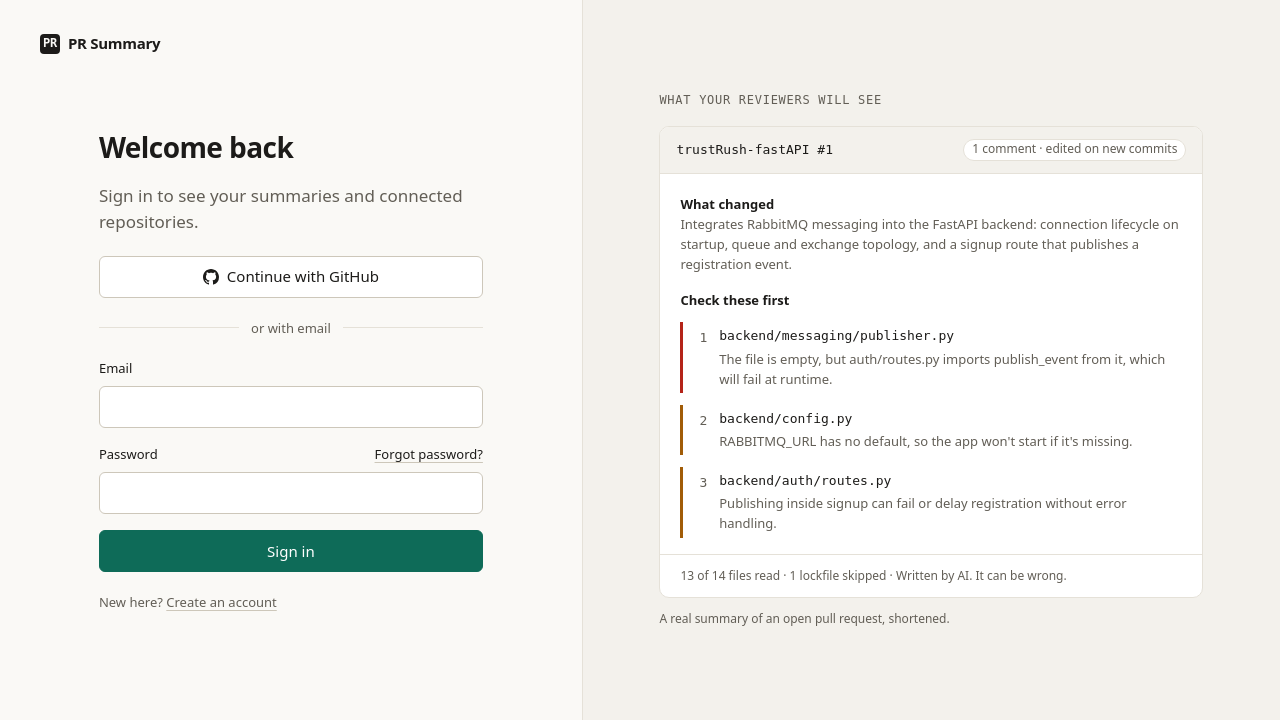
Test: Log in › has a forgot-password placeholder
The width and height of the screenshot is (1280, 720).
Step 1. Click the link "Forgot password?" → click(429, 454), box top-left (374, 444), bottom-right (483, 464)
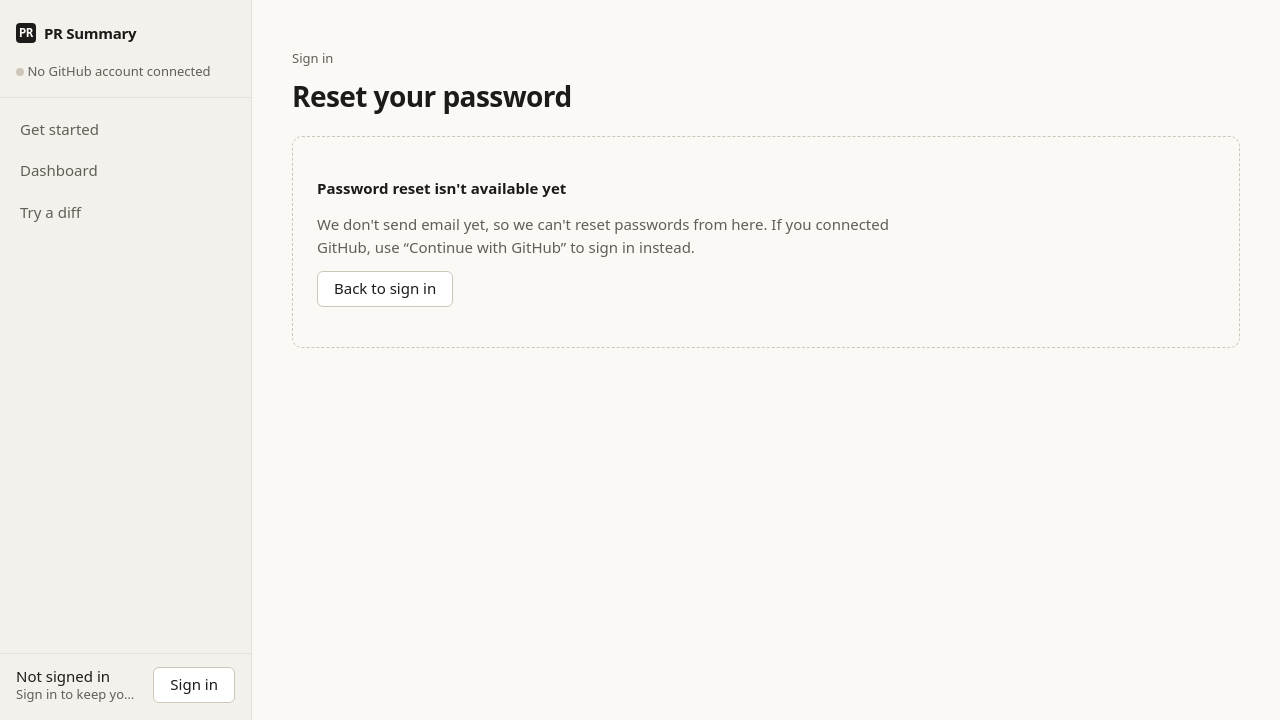
Check: the heading "Password reset isn't available yet" is shown, box top-left (317, 177), bottom-right (566, 201)
